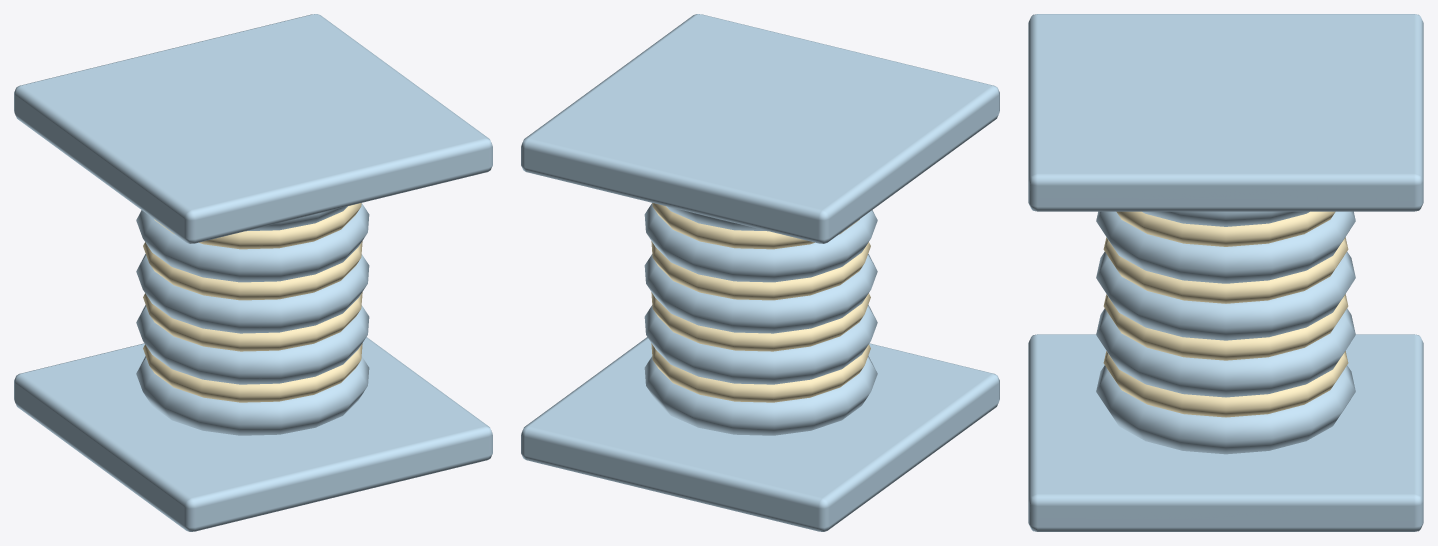
File: R4X_Suspension.fbx
3 renders of one model, left to right at view 1: azimuth 30°, elevation 25°; view 2: azimuth 150°, elevation 25°; view 3: azimuth 270°, elevation 25°, orthographic. The views are drawn at different scales.
Parts seen in each view (by area): view 1: R4X_Suspension_Body; view 2: R4X_Suspension_Body; view 3: R4X_Suspension_Body.
Boxes of the visible parts, x1,y1,x2,y2 form: R4X_Suspension_Body: (14, 14, 492, 531); R4X_Suspension_Body: (521, 14, 999, 531); R4X_Suspension_Body: (1028, 14, 1423, 531).
Size of the model in its own units: 0.52 by 0.52 by 0.52.
